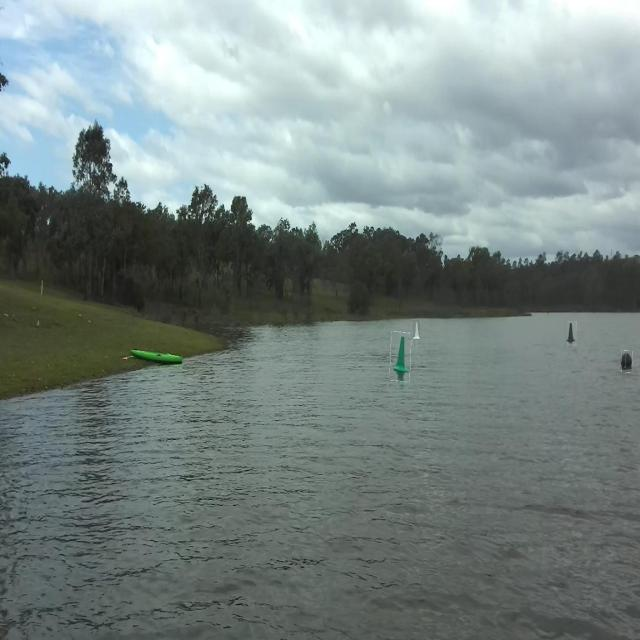Black_Buoy: (621, 339, 636, 370), (567, 326, 579, 341)
Green_Buoy: (393, 326, 409, 393)
White_Buoy: (413, 320, 423, 342)
